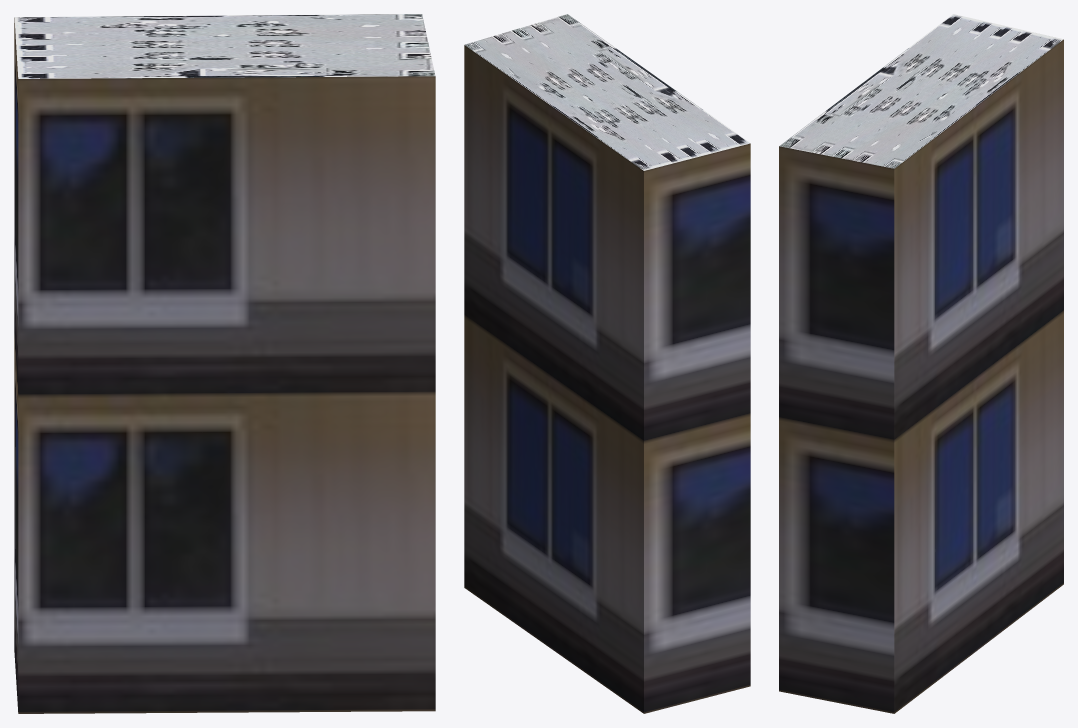
Rendered from ResTex__2072.fbx.
3 renders of one model, left to right at view 1: azimuth 30°, elevation 25°; view 2: azimuth 150°, elevation 25°; view 3: azimuth 270°, elevation 25°, orthographic. The views are drawn at different scales.
Parts seen in each view (by area): view 1: CityEngineMaterial_5_m, CityEngineMaterial_m; view 2: CityEngineMaterial_5_m, CityEngineMaterial_m; view 3: CityEngineMaterial_5_m, CityEngineMaterial_m.
Boxes of the visible parts, box(x1,y1,x2,y2) form: CityEngineMaterial_5_m: box(14, 18, 435, 713); CityEngineMaterial_m: box(14, 14, 435, 78); CityEngineMaterial_5_m: box(464, 45, 750, 713); CityEngineMaterial_m: box(464, 14, 750, 170); CityEngineMaterial_5_m: box(779, 39, 1063, 713); CityEngineMaterial_m: box(779, 14, 1063, 168).
Bounding box in the file's own units: 3.65 × 6 × 2.84.
Materials: 2 (2 with a texture image).
